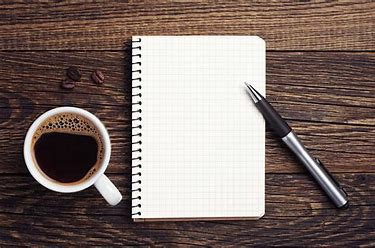pen: (240, 81, 351, 209)
